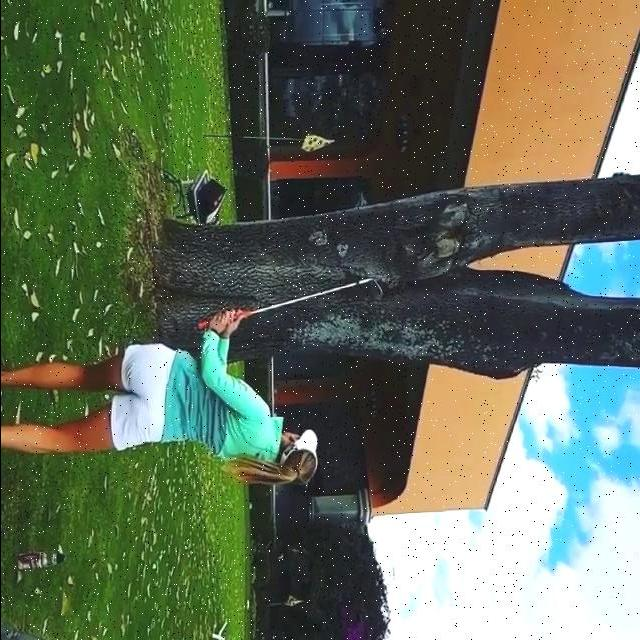golf club-handle: (198, 278, 383, 335)
golf club-head: (369, 280, 385, 297)
